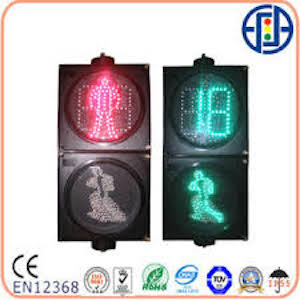green: (189, 164, 221, 229)
red: (76, 74, 134, 141)
